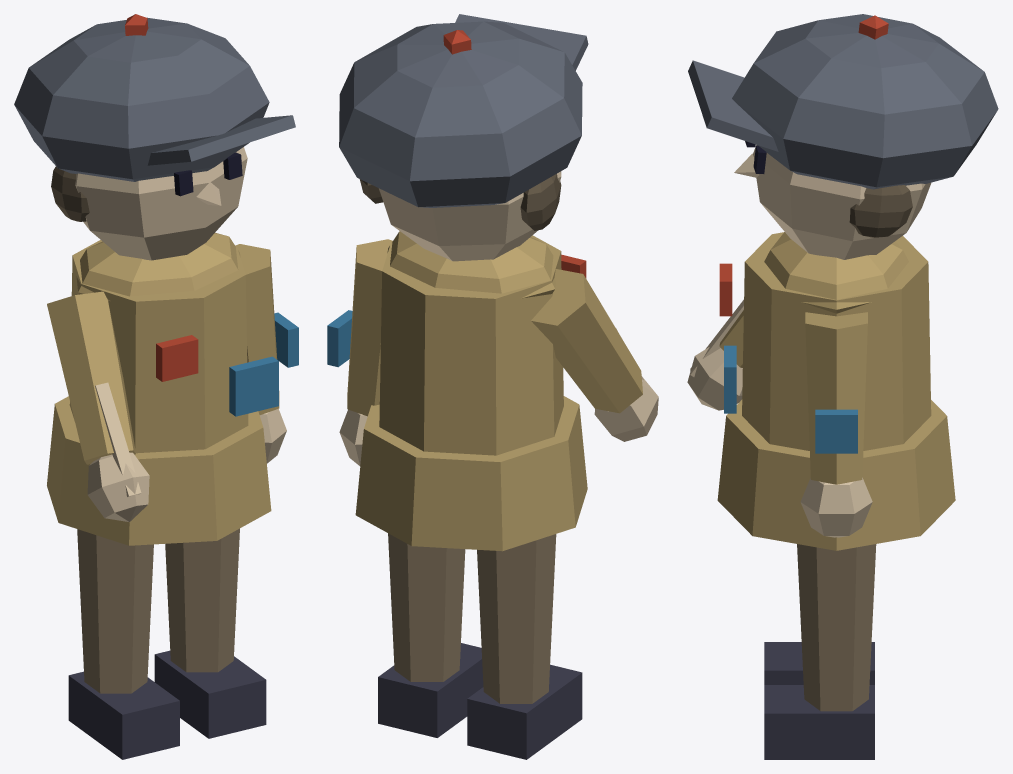
The model's file is pell.glb.
3 views of the same model, side by side, from view 1: azimuth 30°, elevation 25°; view 2: azimuth 150°, elevation 25°; view 3: azimuth 270°, elevation 25° (orthographic). The views are drawn at different scales.
Visible parts, largest first — view 1: Torso, Head, LegR, LegL, ArmR, ArmL; view 2: Torso, Head, LegR, LegL, ArmR, ArmL; view 3: Head, Torso, LegL, ArmL, ArmR, LegR.
Part boxes in pixels (x1,y1,x2,y2): Torso: [47, 232, 278, 545]; Head: [14, 14, 295, 260]; LegR: [68, 529, 179, 759]; LegL: [154, 528, 266, 738]; ArmR: [47, 291, 149, 521]; ArmL: [235, 244, 298, 463]; Torso: [355, 231, 587, 551]; Head: [339, 14, 588, 261]; LegR: [467, 534, 582, 759]; LegL: [378, 533, 483, 737]; ArmR: [531, 269, 658, 441]; ArmL: [327, 239, 392, 466]; Head: [688, 14, 998, 259]; Torso: [717, 232, 955, 550]; LegL: [764, 544, 876, 759]; ArmL: [800, 312, 872, 537]; ArmR: [687, 299, 743, 410]; LegR: [764, 642, 874, 684].
Bounding box in the file's own units: 0.5418 × 1.43 × 0.5709.
